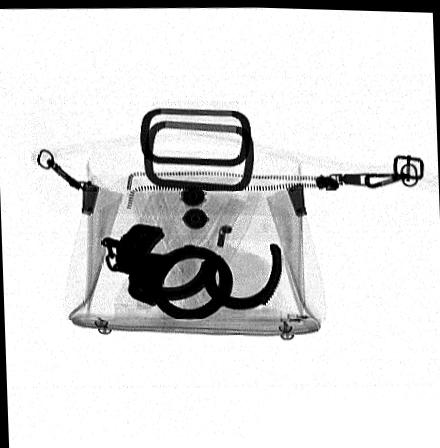HandCuffs: (100, 222, 281, 317)
